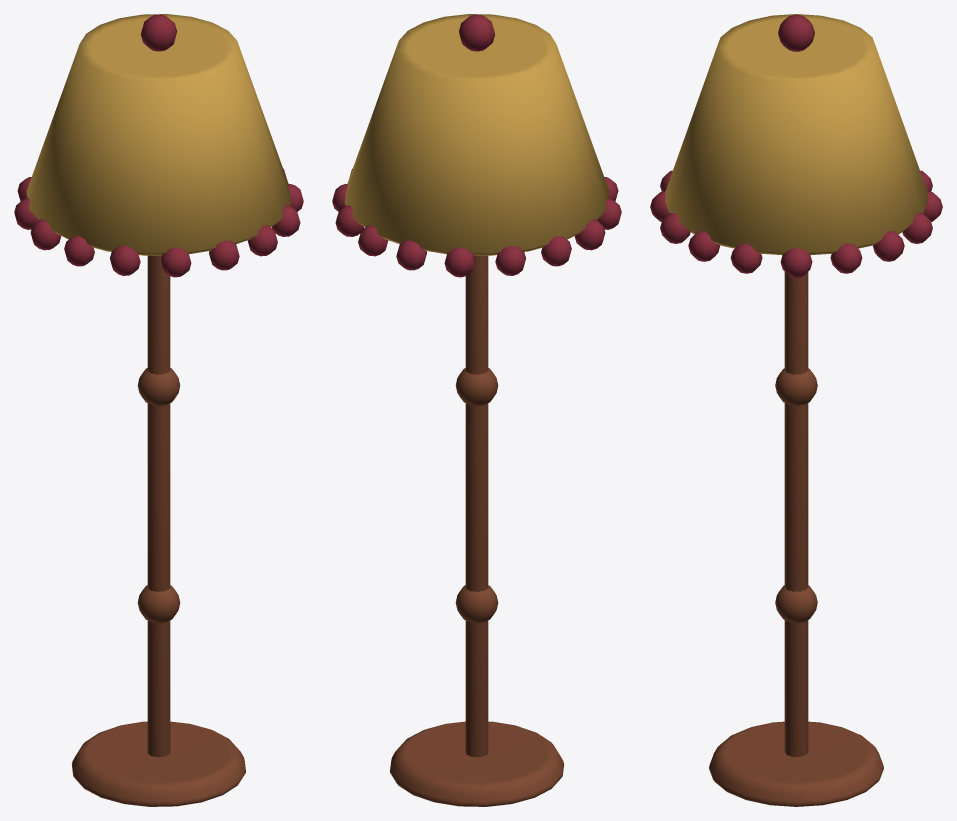
The model's file is floor-lamp.glb.
The picture shows the model from 3 angles, left to right: view 1: azimuth 30°, elevation 25°; view 2: azimuth 150°, elevation 25°; view 3: azimuth 270°, elevation 25°; orthographic projection.
Visible parts, largest first — view 1: floor-lamp; view 2: floor-lamp; view 3: floor-lamp.
Part boxes in pixels (x1,y1,x2,y2): floor-lamp: (14,14,303,806); floor-lamp: (332,14,621,806); floor-lamp: (650,14,942,806).
Bounding box in the file's own units: 0.55 × 1.56 × 0.55.
